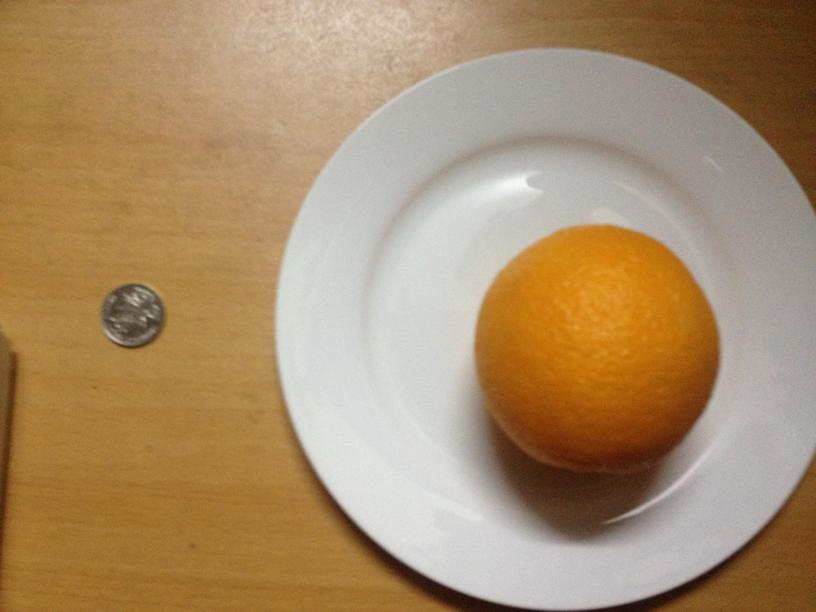coin: (101, 285, 166, 346)
orange: (476, 223, 720, 475)
